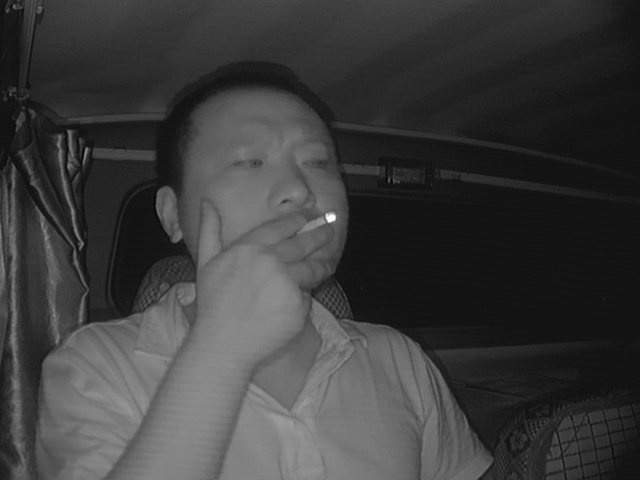hand: (254, 210, 338, 323)
